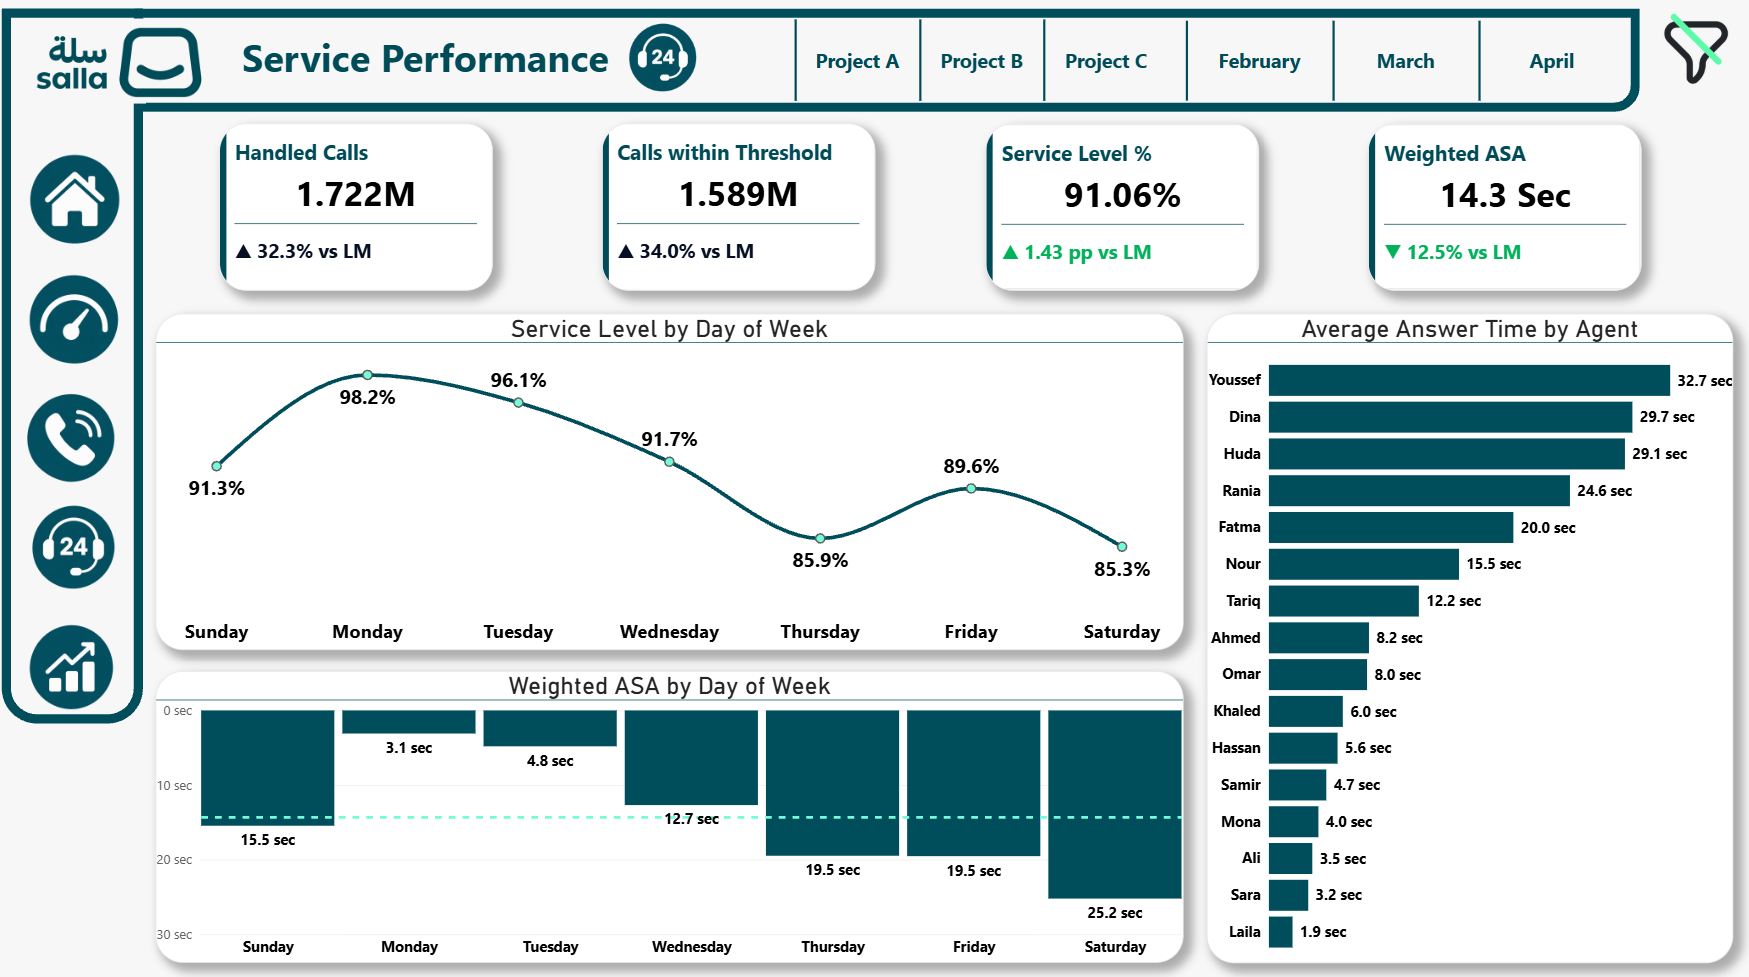

The page's visual inventory and layout, read from the dashboard file:
{"tool":"powerbi","page":{"name":"Service Performance","canvas":[1920,1080],"ordinal":3},"visuals":[{"type":"shape","box":[154.4,14,1642.4,112.7],"z":0},{"type":"shape","box":[10,14,154,780],"z":1000},{"type":"shape","box":[150.6,24,17.2,93.1],"z":2000},{"type":"slicer","fields":{"Values":["DimDate.Month Name"]},"box":[1280,25,516.7,91.7],"z":3000},{"type":"slicer","fields":{"Values":["Sallah Project.Project"]},"box":[853.3,23.3,445,93.3],"z":4000},{"type":"cardVisual","fields":{"Data":["_Measures.Total Handled Calls"]},"box":[246.9,138.5,298,182],"z":5000},{"type":"cardVisual","fields":{"Data":["_Measures.Weighted ASA"]},"box":[1500,138.5,298,182],"z":6000},{"type":"cardVisual","fields":{"Data":["_Measures.Calls within Threshold"]},"box":[664.6,138.5,298,182],"z":7000},{"type":"image","box":[10.8,10.8,254.3,122.8],"z":8000},{"type":"image","box":[1816.9,0,83.2,115.8],"z":9000},{"type":"cardVisual","fields":{"Data":["_Measures.Service Level %"]},"box":[1082.3,138.5,298,182],"z":10000},{"type":"lineChart","title":"Service Level by Day of Week","fields":{"Category":["DimDate.Day Name"],"Y":["_Measures.Service Level %"]},"box":[177.7,346.2,1121.5,366.9],"z":11000},{"type":"clusteredColumnChart","title":"Weighted ASA by Day of Week","fields":{"Category":["DimDate.Day Name"],"Y":["_Measures.Weighted ASA"]},"box":[177.7,736.2,1121.5,318.5],"z":12000},{"type":"clusteredBarChart","title":"Average Answer Time by Agent","fields":{"Category":["Sallah Project.Agent Name"],"Y":["_Measures.Weighted ASA"]},"box":[1324.6,346.2,574.6,708.5],"z":13000},{"type":"image","box":[683.1,19.4,97,101.3],"z":19000},{"type":"image","box":[18,156,142,118],"z":19001},{"type":"image","box":[18,286,142,118],"z":19002},{"type":"image","box":[18,416,142,118],"z":19003},{"type":"image","box":[18,546,142,118],"z":19004},{"type":"image","box":[18,676,142,118],"z":19005}]}

Visuals, with their boxes in screenshot pixels (x1, y1, x2, y2), scaled from the page's 1920x1080 canvas onto the 1749x977 screenshot:
shape: bbox=(141, 13, 1637, 115)
shape: bbox=(9, 13, 149, 718)
shape: bbox=(137, 22, 153, 106)
slicer - DimDate.Month Name: bbox=(1166, 23, 1637, 106)
slicer - Sallah Project.Project: bbox=(777, 21, 1183, 105)
cardVisual - _Measures.Total Handled Calls: bbox=(225, 125, 496, 290)
cardVisual - _Measures.Weighted ASA: bbox=(1366, 125, 1638, 290)
cardVisual - _Measures.Calls within Threshold: bbox=(605, 125, 877, 290)
image: bbox=(10, 10, 241, 121)
image: bbox=(1655, 0, 1731, 105)
cardVisual - _Measures.Service Level %: bbox=(986, 125, 1257, 290)
"Service Level by Day of Week" lineChart: bbox=(162, 313, 1183, 645)
"Weighted ASA by Day of Week" clusteredColumnChart: bbox=(162, 666, 1183, 954)
"Average Answer Time by Agent" clusteredBarChart: bbox=(1207, 313, 1730, 954)
image: bbox=(622, 18, 711, 109)
image: bbox=(16, 141, 146, 248)
image: bbox=(16, 259, 146, 365)
image: bbox=(16, 376, 146, 483)
image: bbox=(16, 494, 146, 601)
image: bbox=(16, 612, 146, 718)
